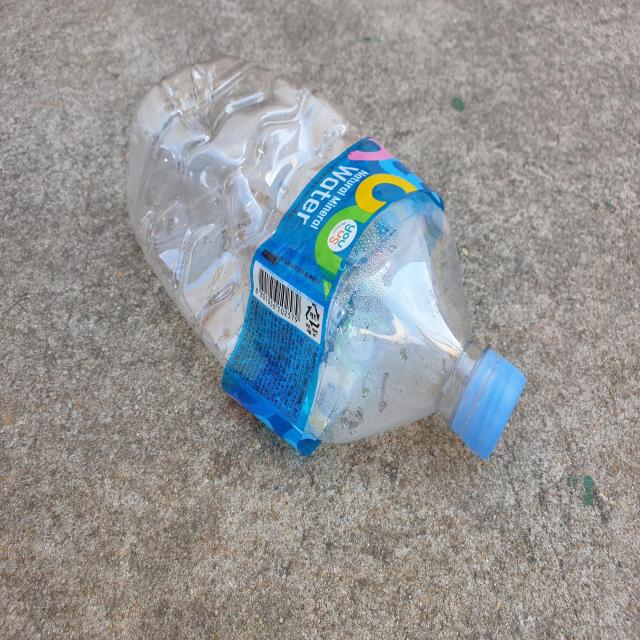plastic: (127, 56, 526, 459)
